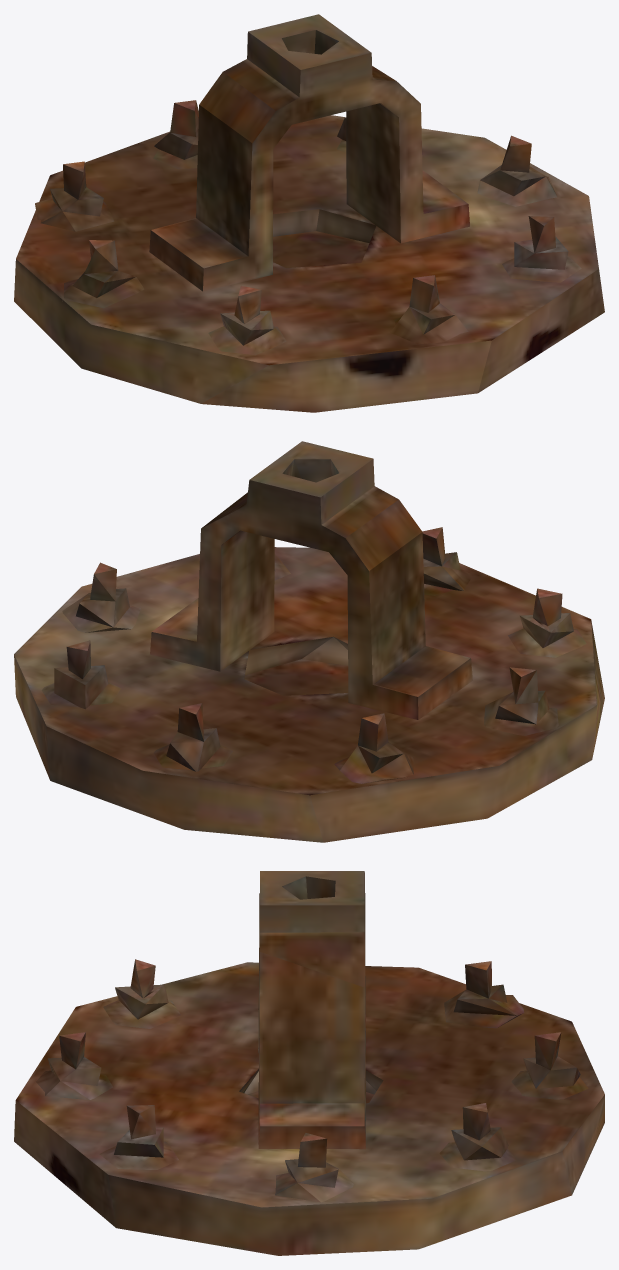
The model's file is old_pipe_10.glb.
The picture shows the model from 3 angles, top to bottom: view 1: azimuth 30°, elevation 25°; view 2: azimuth 150°, elevation 25°; view 3: azimuth 270°, elevation 25°; orthographic projection.
Parts seen in each view (by area): view 1: old_pipe_10; view 2: old_pipe_10; view 3: old_pipe_10.
Part boxes in pixels (<box>): old_pipe_10: <box>14,14,604,412</box>; old_pipe_10: <box>14,441,604,842</box>; old_pipe_10: <box>14,871,604,1255</box>.
Size of what is drawn, in the model's own units: 0.0841 by 0.0389 by 0.0853.
1 material, 1 textured.
